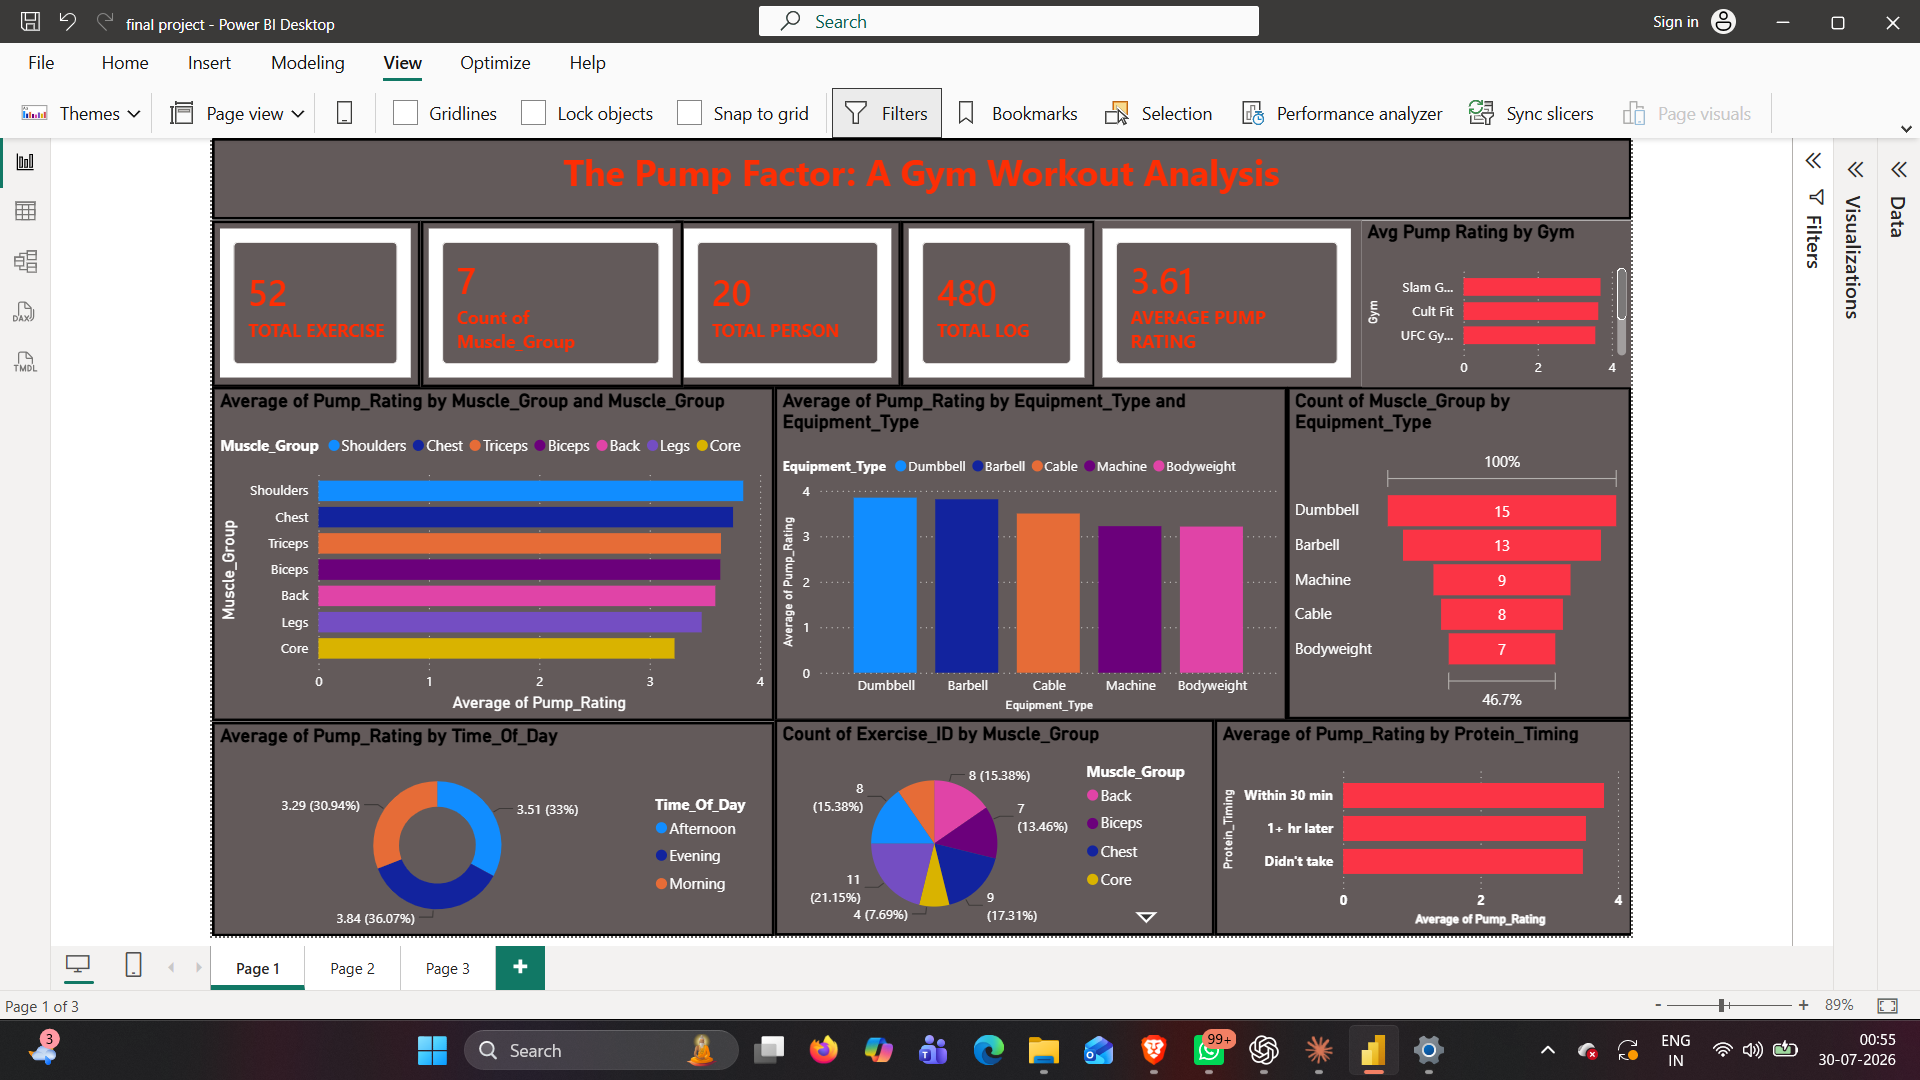

The dashboard page shown, as its layout file describes it:
{"tool":"powerbi","page":{"name":"Page 1","canvas":[1280,720],"ordinal":0},"visuals":[{"type":"textbox","box":[0,0,1280.3,74],"z":0},{"type":"cardVisual","fields":{"Data":["CountNonNull(Person_Dim.Person_ID)"]},"box":[418.2,74,203.1,150.6],"z":1000},{"type":"cardVisual","fields":{"Data":["CountNonNull(Workout_Log.Log_ID)"]},"box":[621.3,74,174.8,150.6],"z":2000},{"type":"cardVisual","fields":{"Data":["Count(Exercise_Dim.Exercise_ID)"]},"box":[0,74,188.3,150.6],"z":3000},{"type":"cardVisual","title":"Avg pump rating","fields":{"Data":["Avg(Workout_Log.Pump_Rating)"]},"box":[796.1,74,240.7,150.6],"z":4000},{"type":"barChart","fields":{"Category":["Exercise_Dim.Muscle_Group"],"Y":["Avg(Workout_Log.Pump_Rating)"],"Series":["Exercise_Dim.Muscle_Group"]},"box":[0,224.6,507,301.2],"z":5000},{"type":"columnChart","fields":{"Category":["Exercise_Dim.Equipment_Type"],"Y":["Avg(Workout_Log.Pump_Rating)"],"Series":["Exercise_Dim.Equipment_Type"]},"box":[507,224.6,462.6,301.2],"z":6000},{"type":"donutChart","fields":{"Y":["Avg(Workout_Log.Pump_Rating)"],"Series":["Workout_Log.Time_Of_Day"]},"box":[0,525.8,507,193.7],"z":7000},{"type":"pieChart","fields":{"Series":["Exercise_Dim.Muscle_Group"],"Y":["CountNonNull(Exercise_Dim.Exercise_ID)"]},"box":[507,524.5,396.7,195],"z":8000},{"type":"funnel","fields":{"Category":["Exercise_Dim.Equipment_Type"],"Y":["CountNonNull(Exercise_Dim.Muscle_Group)"]},"box":[969.6,224.6,310.7,299.9],"z":9000},{"type":"barChart","fields":{"Category":["Workout_Log.Protein_Timing"],"Y":["Avg(Workout_Log.Pump_Rating)"]},"box":[903.7,524.5,376.6,195],"z":10000},{"type":"cardVisual","fields":{"Data":["Count(Exercise_Dim.Muscle_Group)"]},"box":[188.3,74,236.7,150.6],"z":11000},{"type":"barChart","fields":{"Y":["Workout_Log.Avg Pump Rating"],"Category":["Workout_Log.Gym"]},"box":[1036.9,74,243.4,150.6],"z":12000}]}

Visuals, with their boxes on the page's 1280x720 design canvas (x1, y1, x2, y2). These are canvas units, not pixel positions in the 1920x1080 screenshot, which may show the page scaled, cropped or inside an application window:
textbox: <bbox>0, 0, 1280, 74</bbox>
cardVisual - CountNonNull(Person_Dim.Person_ID): <bbox>418, 74, 621, 225</bbox>
cardVisual - CountNonNull(Workout_Log.Log_ID): <bbox>621, 74, 796, 225</bbox>
cardVisual - Count(Exercise_Dim.Exercise_ID): <bbox>0, 74, 188, 225</bbox>
"Avg pump rating" cardVisual: <bbox>796, 74, 1037, 225</bbox>
barChart - Exercise_Dim.Muscle_Group x Avg(Workout_Log.Pump_Rating): <bbox>0, 225, 507, 526</bbox>
columnChart - Exercise_Dim.Equipment_Type x Avg(Workout_Log.Pump_Rating): <bbox>507, 225, 970, 526</bbox>
donutChart - Avg(Workout_Log.Pump_Rating) x Workout_Log.Time_Of_Day: <bbox>0, 526, 507, 720</bbox>
pieChart - Exercise_Dim.Muscle_Group x CountNonNull(Exercise_Dim.Exercise_ID): <bbox>507, 524, 904, 720</bbox>
funnel - Exercise_Dim.Equipment_Type x CountNonNull(Exercise_Dim.Muscle_Group): <bbox>970, 225, 1280, 524</bbox>
barChart - Workout_Log.Protein_Timing x Avg(Workout_Log.Pump_Rating): <bbox>904, 524, 1280, 720</bbox>
cardVisual - Count(Exercise_Dim.Muscle_Group): <bbox>188, 74, 425, 225</bbox>
barChart - Workout_Log.Avg Pump Rating x Workout_Log.Gym: <bbox>1037, 74, 1280, 225</bbox>
